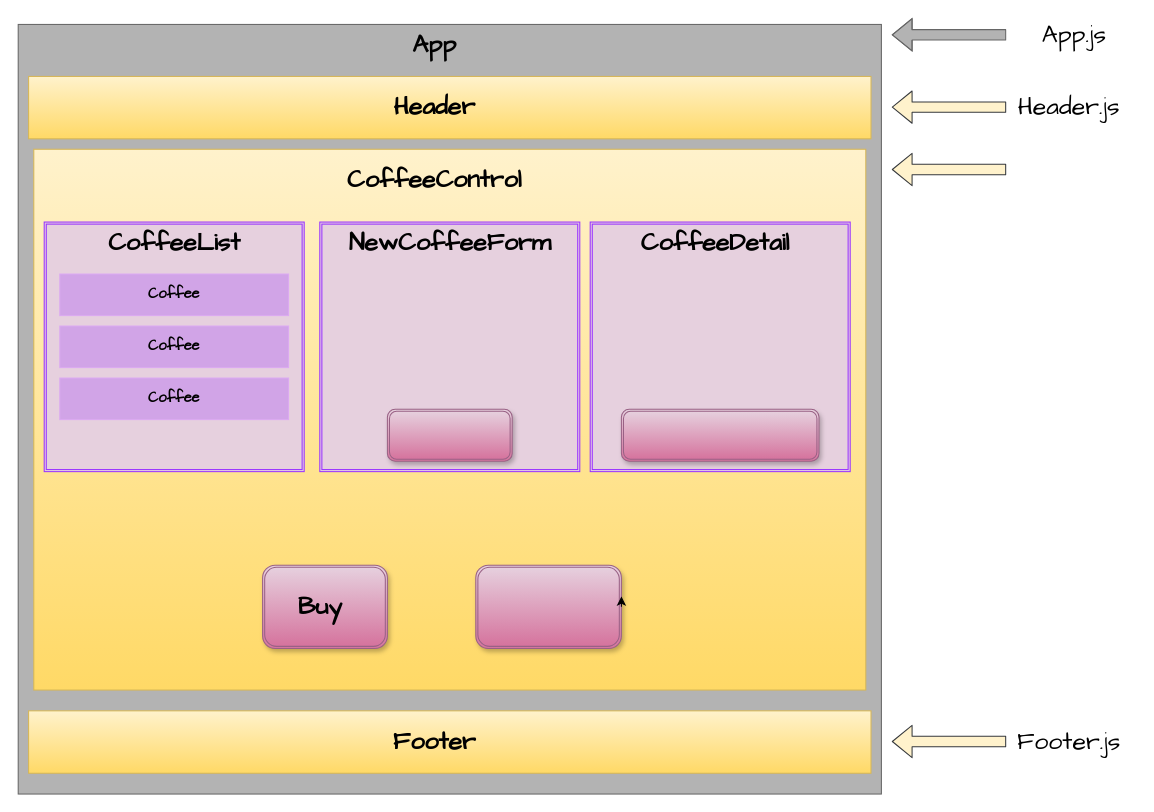
The diagram is 1154 pixels wide and 812 high, and some of its shapes have lost their labels. The shapes that lost their labels are listed below. From the top down, each one's centre as x and y in pixels, then its label:
(450,436): Submit
(720,436): Update/Delete
(549,608): Add (Restock)
